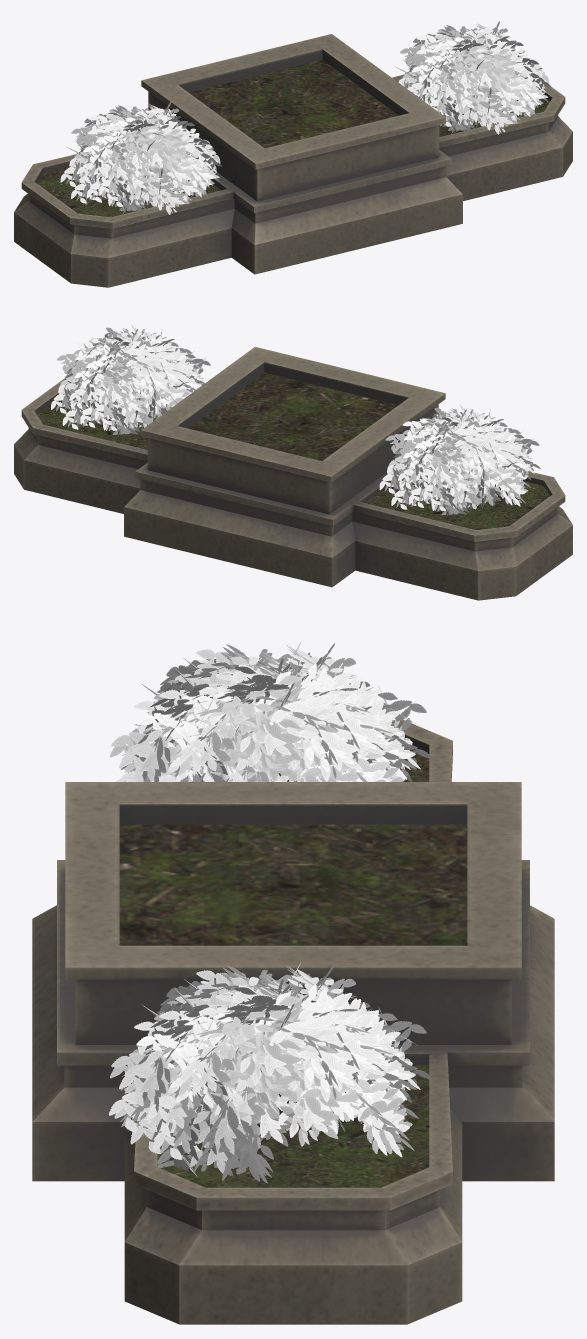
Rendered from FlowerBed_B_01.fbx.
3 renders of one model, top to bottom at view 1: azimuth 30°, elevation 25°; view 2: azimuth 150°, elevation 25°; view 3: azimuth 270°, elevation 25°, orthographic. The views are drawn at different scales.
Parts seen in each view (by area): view 1: FlowerBed_B_01, Flower_A_01__5_, Flower_A_01__4_; view 2: FlowerBed_B_01, Flower_A_01__5_, Flower_A_01__4_; view 3: FlowerBed_B_01, Flower_A_01__4_, Flower_A_01__5_.
Part boxes in pixels (x1=…): FlowerBed_B_01: x1=14, y1=34, x2=572, y2=287; Flower_A_01__5_: x1=60, y1=101, x2=221, y2=214; Flower_A_01__4_: x1=394, y1=21, x2=550, y2=134; FlowerBed_B_01: x1=14, y1=347, x2=572, y2=600; Flower_A_01__5_: x1=379, y1=404, x2=540, y2=517; Flower_A_01__4_: x1=51, y1=324, x2=210, y2=437; FlowerBed_B_01: x1=32, y1=720, x2=554, y2=1324; Flower_A_01__4_: x1=109, y1=962, x2=432, y2=1183; Flower_A_01__5_: x1=110, y1=642, x2=432, y2=781.
Size of the model in its own units: 499 by 130 by 225.
4 materials, 4 textured.
